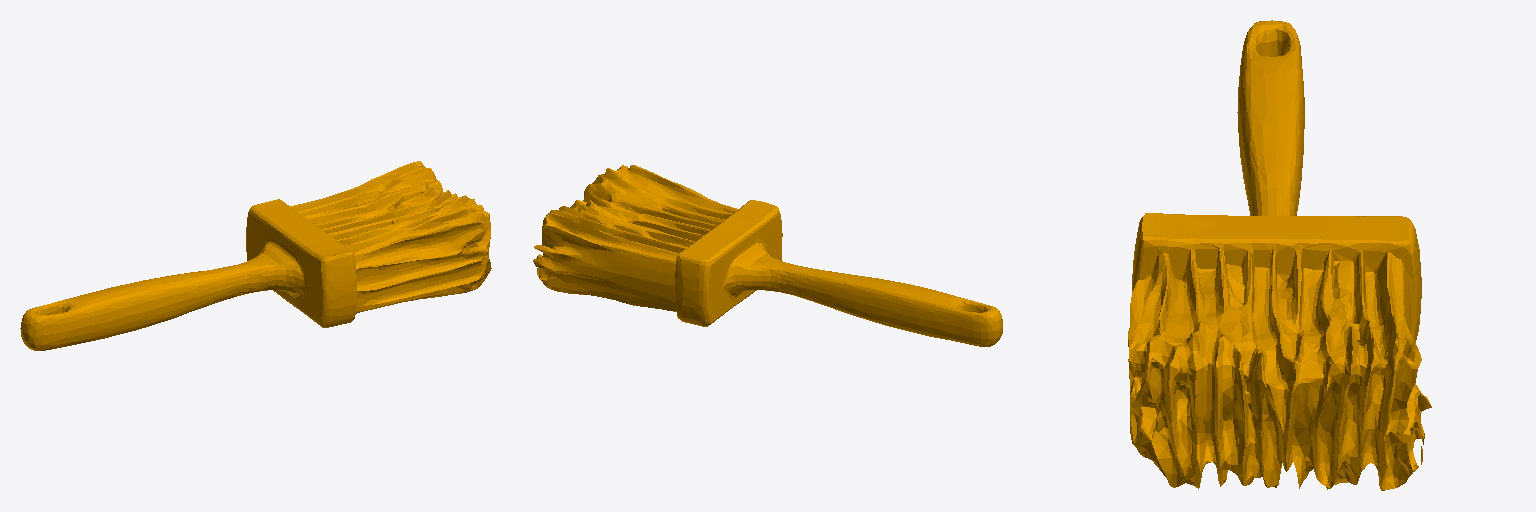
The robot description file, URDF, robot "blue_brush":
<?xml version="1.0"?>
<robot name="blue_brush">
  <link name="blue_brush">
    <visual>
      <origin xyz="0 0 0" rpy="0 0 0"/>
      <geometry>
        <mesh filename="blue_brush.obj" scale="1 1 1"/>
      </geometry>
    </visual>
    <collision>
      <origin xyz="0 0 0" rpy="0 0 0"/>
      <geometry>
        <mesh filename="blue_brush.obj" scale="1 1 1"/>
      </geometry>
    </collision>
    <inertial>
      <origin xyz="0 0 0" rpy="0 0 0"/>
      <mass value="0.07000000"/>
      <inertia ixx="0.0000379167" ixy="0" ixz="0" iyy="0.0002665833" iyz="0" izz="0.0002858333"/>
    </inertial>
  </link>
</robot>

--- What the picture shows (computed from the rendered views, not written in the file) ---
Views: 3 orthographic renders of the robot side by side, from view 1: azimuth 30°, elevation 25°; view 2: azimuth 150°, elevation 25°; view 3: azimuth 270°, elevation 25°.
Robot: blue_brush — 1 links, 0 joints (none); root link blue_brush; default pose: every joint at zero.
Links seen in each view (by area): view 1: blue_brush; view 2: blue_brush; view 3: blue_brush.
Link boxes in pixels (x1,y1,x2,y2): blue_brush: (20,161,491,350); blue_brush: (533,165,1002,346); blue_brush: (1128,20,1431,490).
Bounding box of the posed robot: 0.21 × 0.07 × 0.04 m (x, y, z).
1 mesh visuals loaded from 1 distinct referenced files (1 OBJ).
